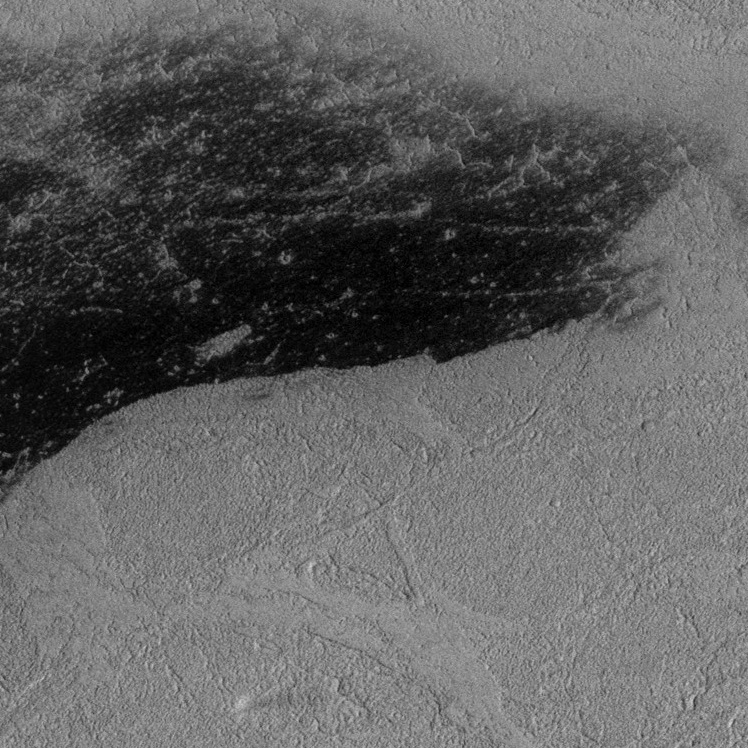dust_devil: (231, 688, 320, 717)
